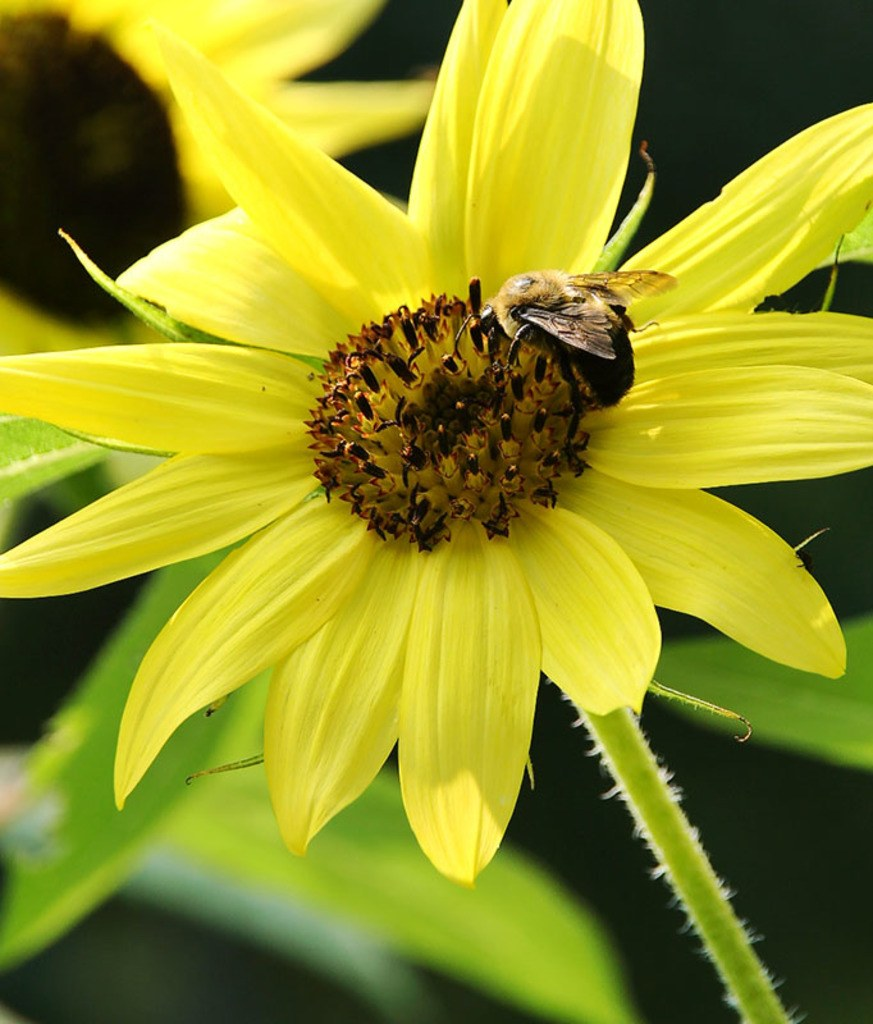bee: (439, 241, 671, 412)
insect: (0, 0, 872, 887)
